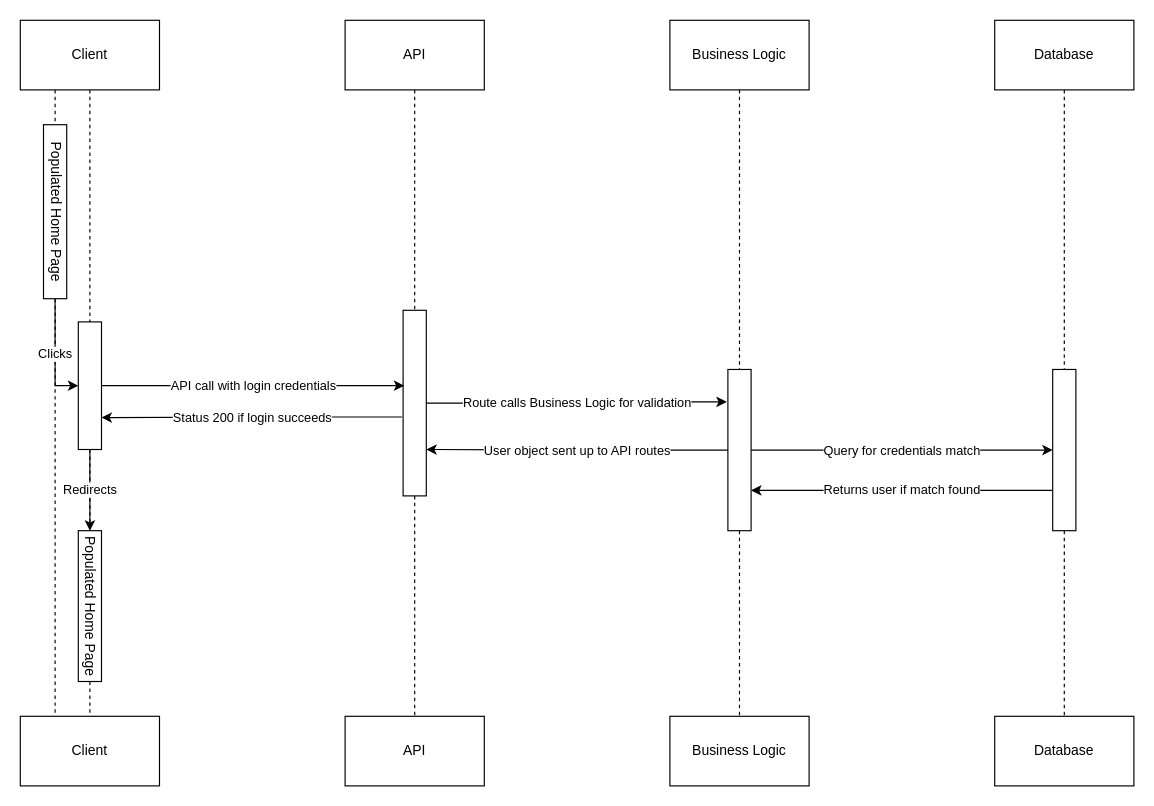
This 1154x806 diagram has some shape labels left out. The shapes that lost their labels are listed below. From the top down, each one's box as (x1, y1, x2, y2) in pixels, then its label:
(77, 321, 102, 449): Login page
(402, 309, 426, 496): /login
(727, 368, 751, 531): ORM handles querying
(1052, 368, 1076, 531): uers table
